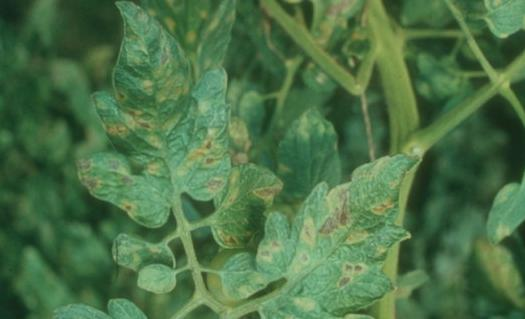Tomato mold leaf: (77, 0, 235, 228), (224, 151, 435, 319), (485, 169, 525, 251), (475, 0, 525, 39), (134, 257, 181, 295)
